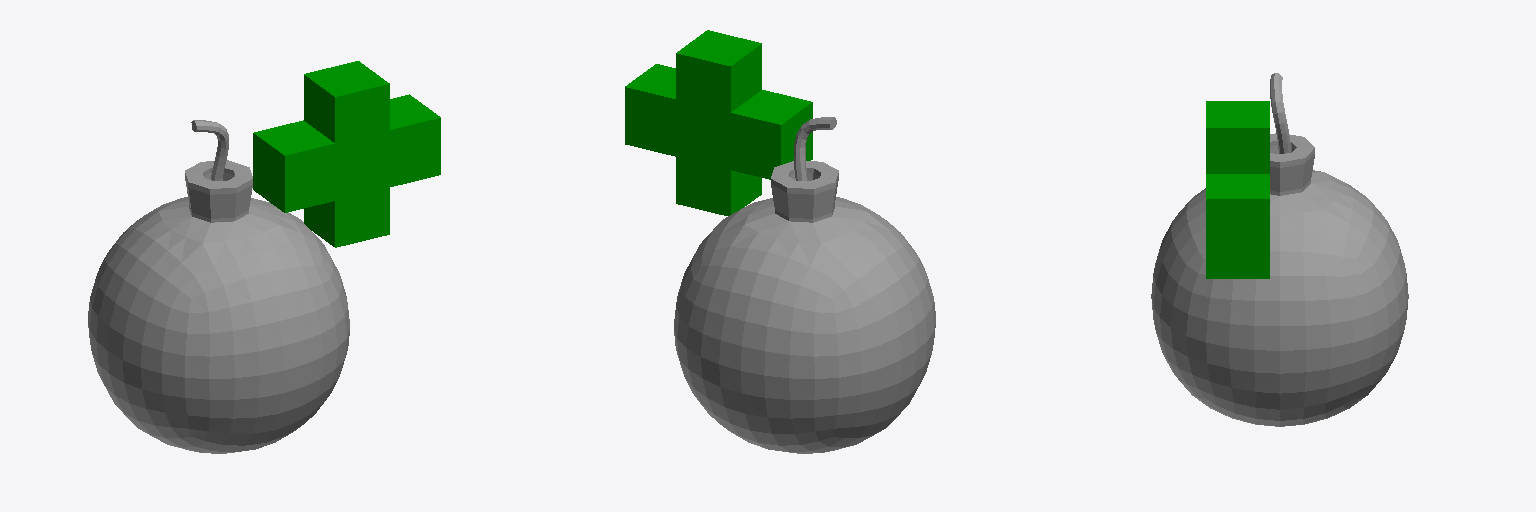
Rendered from bomb_up.obj.
The picture shows the model from 3 angles: view 1: azimuth 30°, elevation 25°; view 2: azimuth 150°, elevation 25°; view 3: azimuth 270°, elevation 25°; orthographic projection.
Visible parts, largest first — view 1: Cube_Cube.002; view 2: Cube_Cube.002; view 3: Cube_Cube.002.
Boxes of the visible parts, x1,y1,x2,y2 form: Cube_Cube.002: [88, 61, 440, 453]; Cube_Cube.002: [625, 30, 935, 453]; Cube_Cube.002: [1151, 73, 1408, 426].
Size of the model in its own units: 0.3996 by 0.4508 by 0.3.